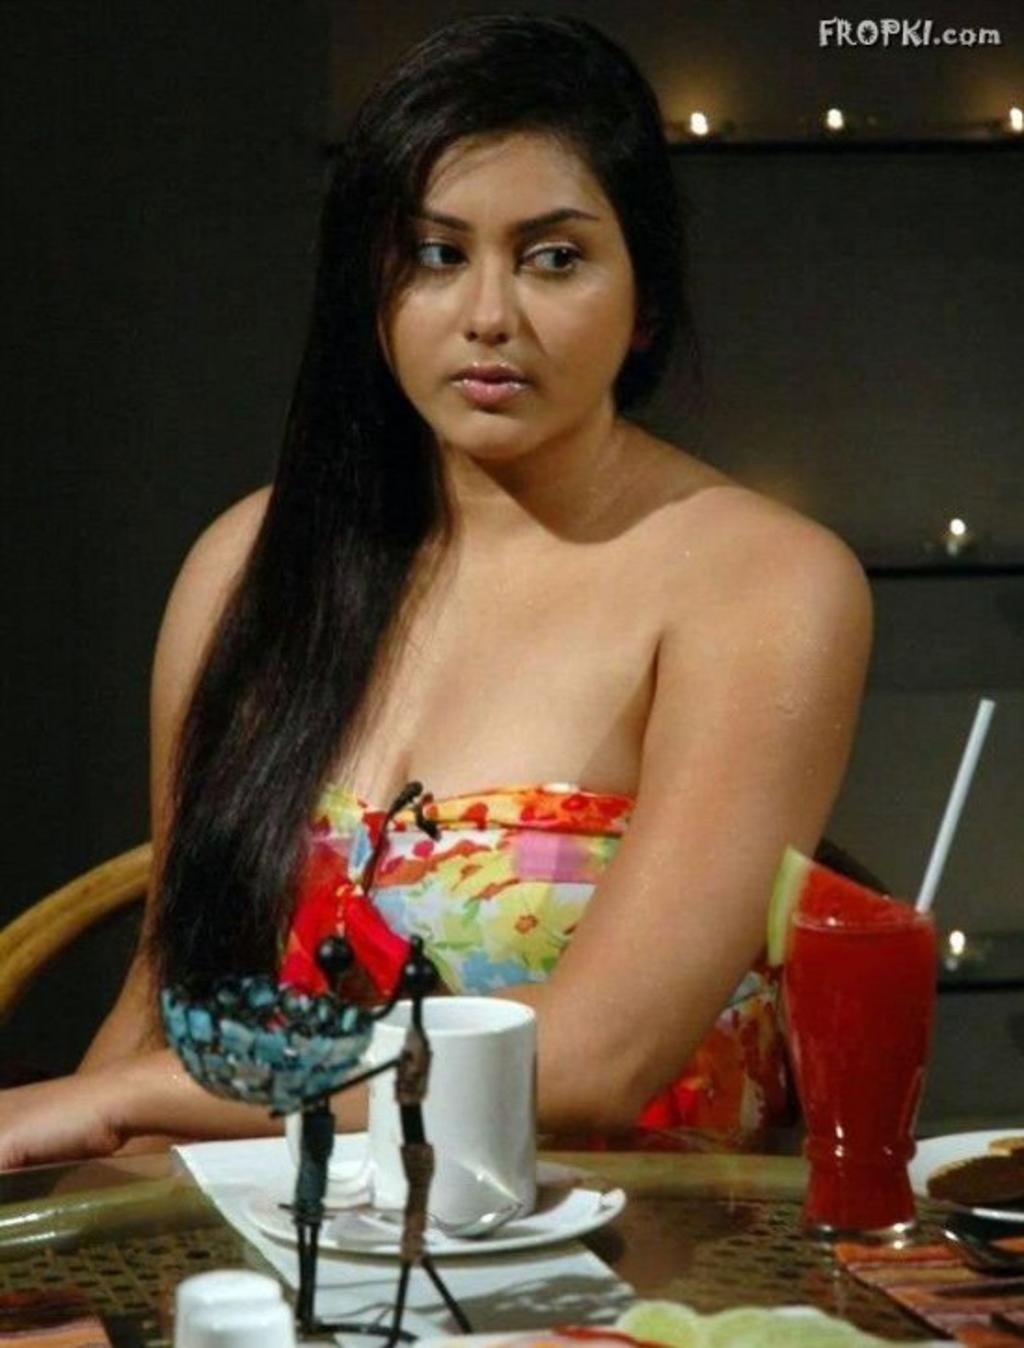face: (384, 129, 631, 455)
